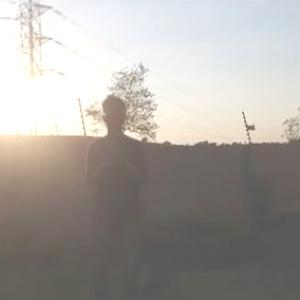follow: (82, 89, 154, 299)
